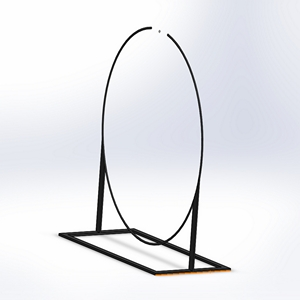circle: (59, 25, 231, 274)
